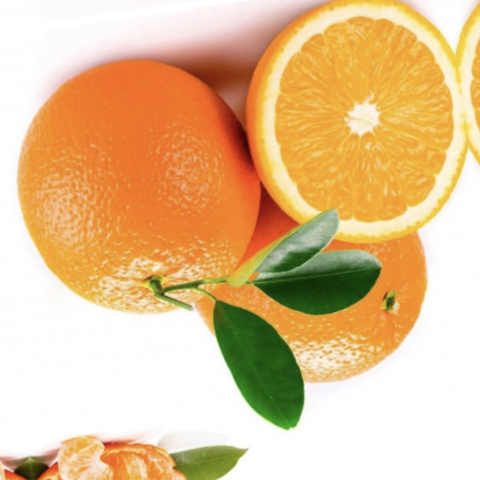orange: (0, 29, 298, 360), (150, 134, 450, 409)
